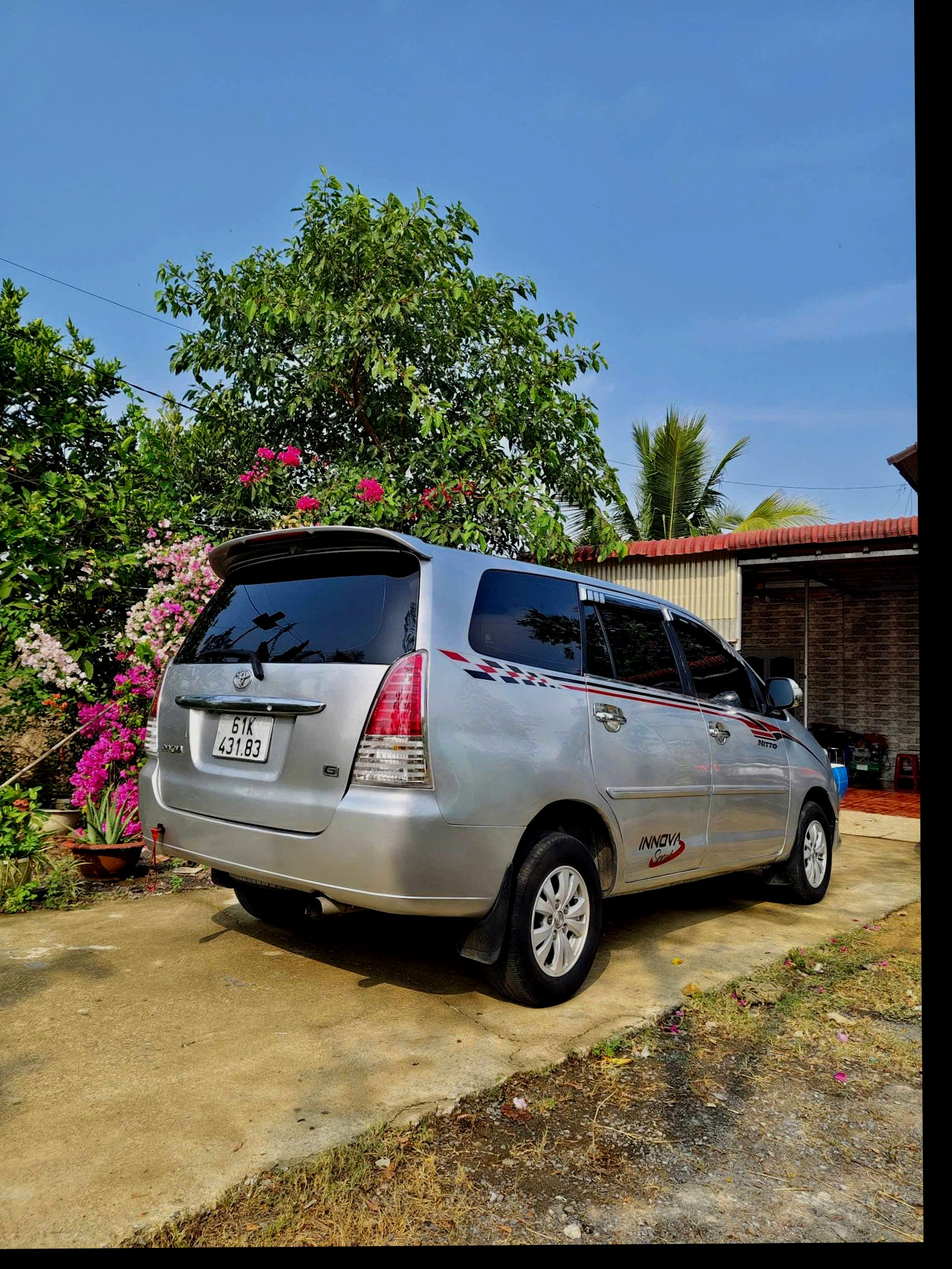Bien-so: (207, 716, 272, 764)
